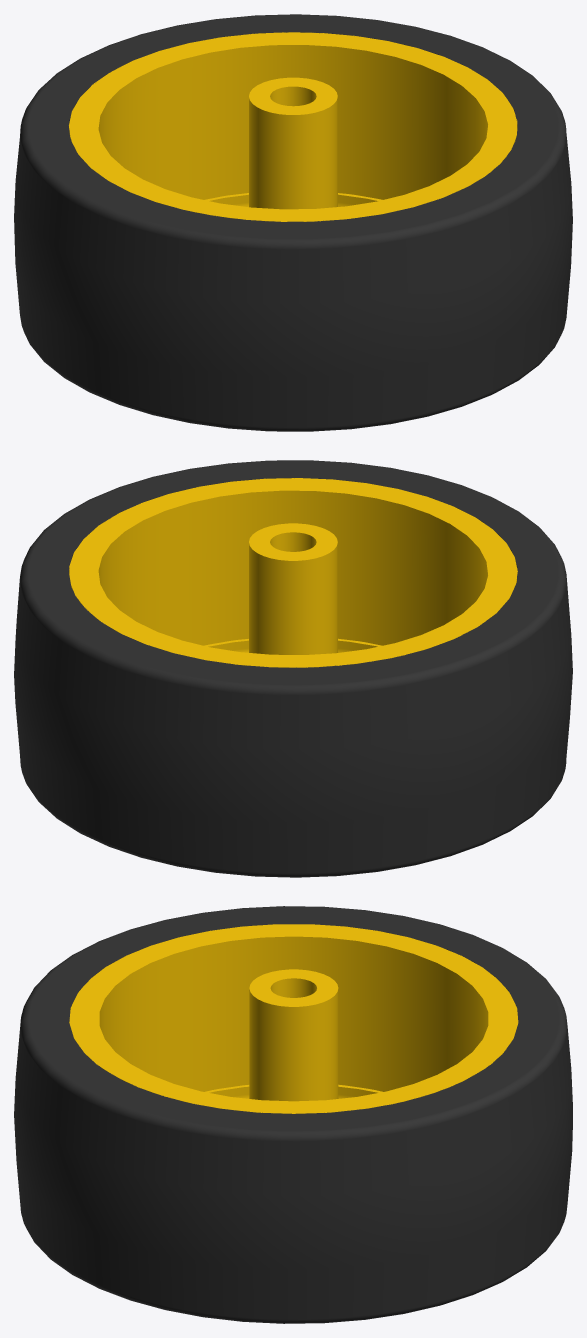
File: Wheel.obj
3 views of the same model, one above another, from view 1: azimuth 30°, elevation 25°; view 2: azimuth 150°, elevation 25°; view 3: azimuth 270°, elevation 25° (orthographic).
Visible parts, largest first — view 1: Body3, Body2, Body1, Body4; view 2: Body3, Body2, Body1, Body4; view 3: Body3, Body2, Body1, Body4.
Part boxes in pixels (x1,y1,x2,y2): Body3: (14,14,572,431); Body2: (69,32,517,221); Body1: (249,77,337,209); Body4: (205,193,382,207); Body3: (14,460,572,877); Body2: (69,478,517,667); Body1: (249,523,337,654); Body4: (204,638,381,652); Body3: (14,906,572,1323); Body2: (69,924,518,1113); Body1: (249,969,338,1101); Body4: (205,1084,382,1098).
Size of the model in its own units: 6.6 by 2.9 by 6.59.
